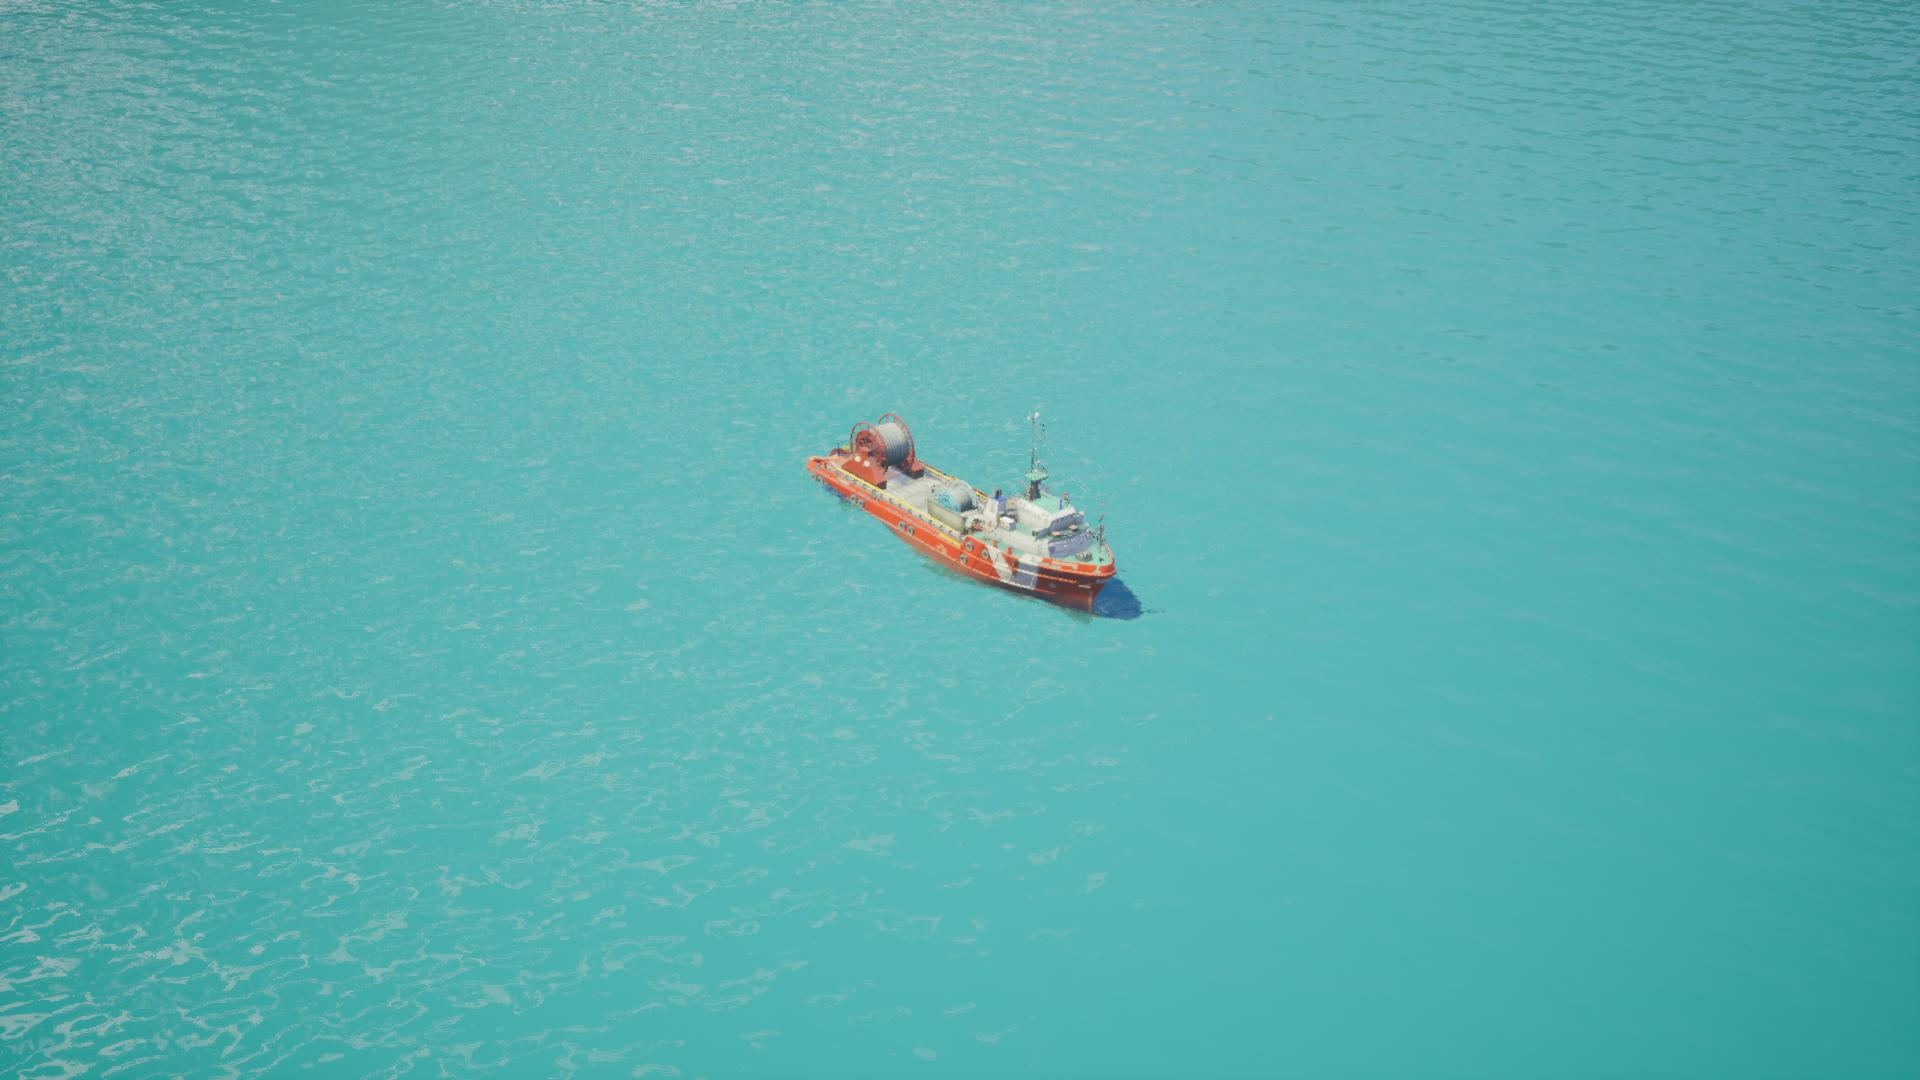Tug Boat: (807, 373, 1189, 662)
